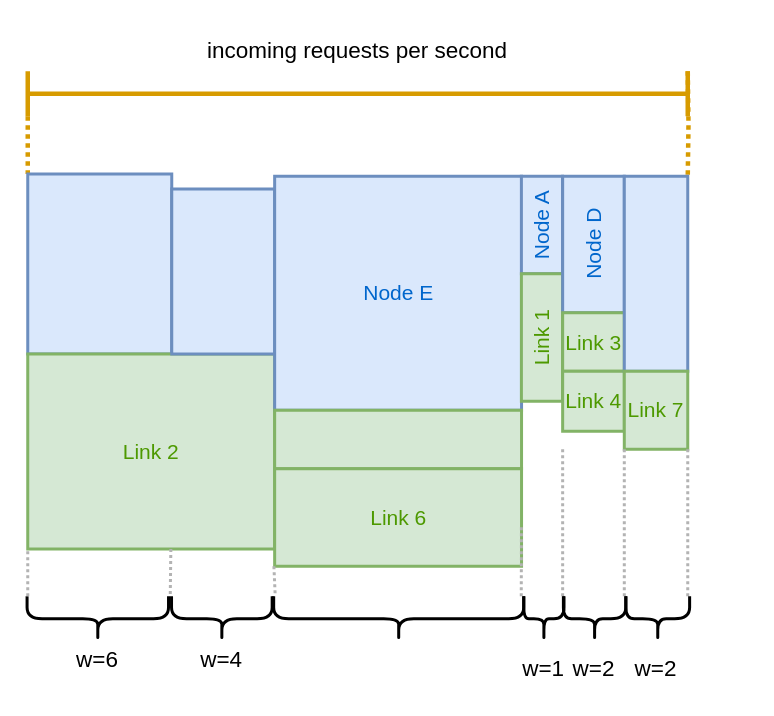
This 774x716 diagram has some shape labels left out. Here are the shapes that lost their labels. From the top down, the box of each, then its label:
(26, 172, 172, 355): Node B
(170, 187, 275, 355): Node C
(622, 174, 688, 372): Node F
(272, 408, 522, 470): Link 5
(272, 594, 525, 642): w=10
